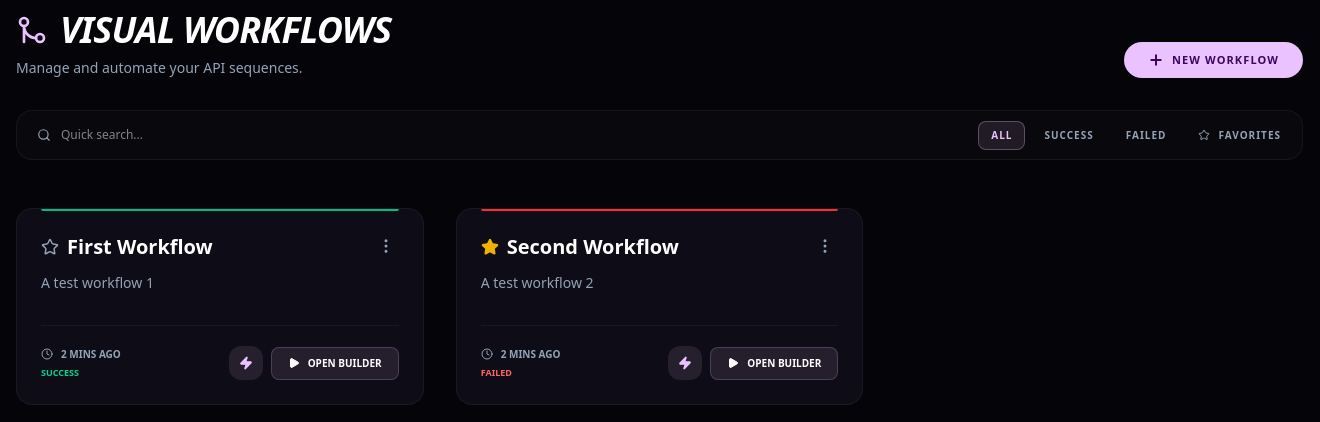
WorkflowList Component › handles favorites filter correctly
Expected: the heading "First Workflow" is shown, [67,233,213,261]
Expected: the heading "Second Workflow" is shown, [507,233,679,261]
Click the button "FAVORITES".
click(1240, 135)  # box [1186,120,1294,150]
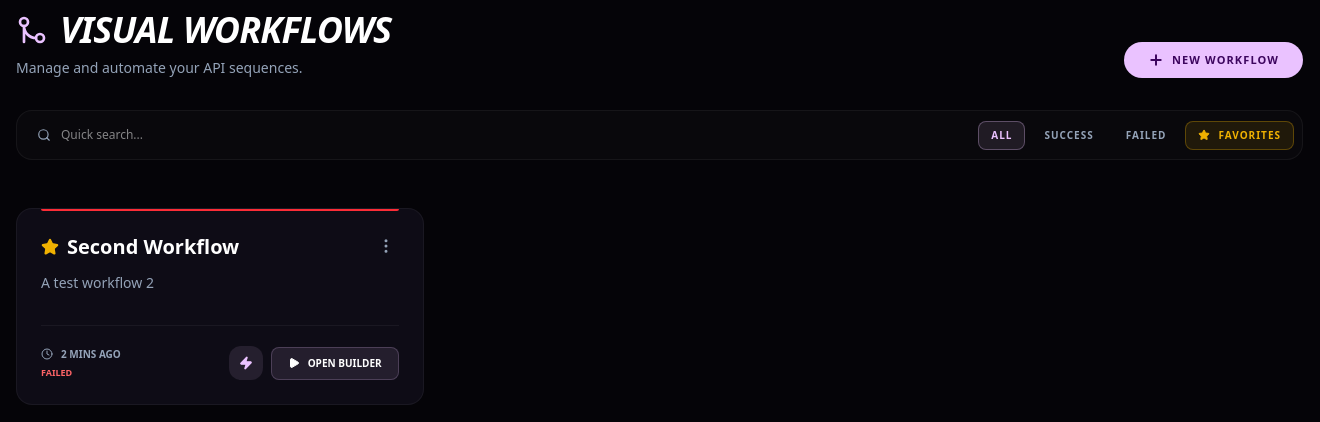
Expected: the heading "Second Workflow" is shown, [67,233,239,261]
Now the heading "First Workflow" is gone
